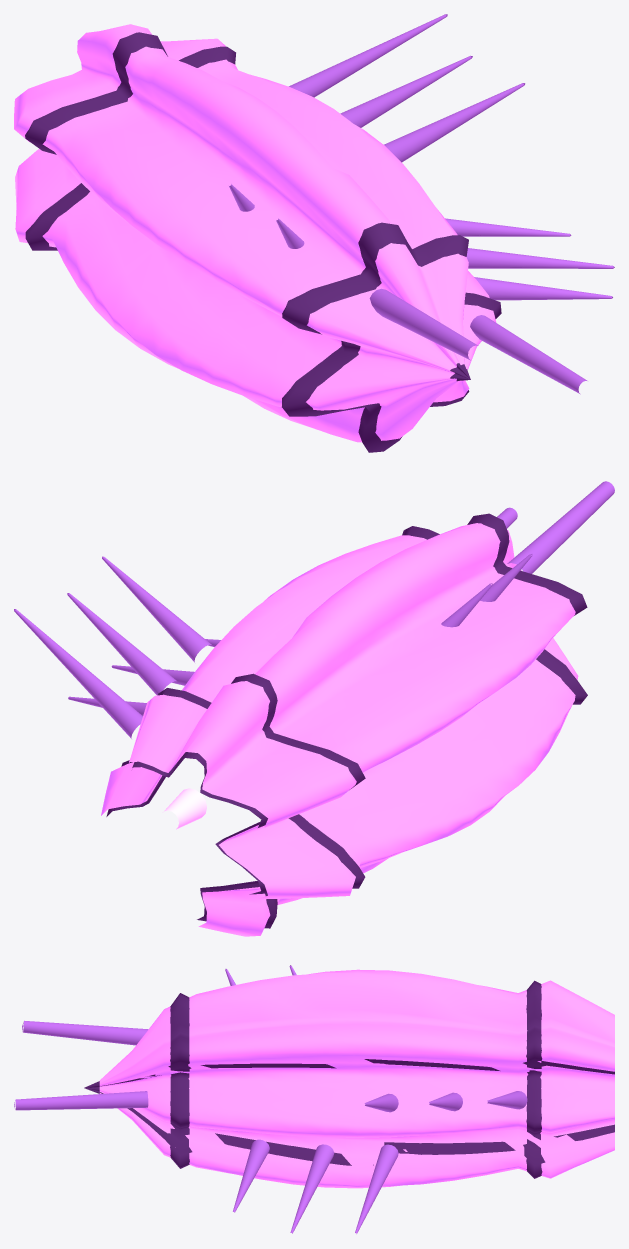
The model's file is voidborn_cruiser.glb.
The picture shows the model from 3 angles, top to bottom: view 1: azimuth 30°, elevation 25°; view 2: azimuth 150°, elevation 25°; view 3: azimuth 270°, elevation 25°; orthographic projection. The views are drawn at different scales.
Parts seen in each view (by area): view 1: voidborn_cruiser; view 2: voidborn_cruiser; view 3: voidborn_cruiser.
Boxes of the visible parts, <box> form: voidborn_cruiser: <box>14,14,614,452</box>; voidborn_cruiser: <box>14,481,614,936</box>; voidborn_cruiser: <box>14,965,614,1233</box>.
Size of the model in its own units: 2.38 by 1.48 by 3.85.
